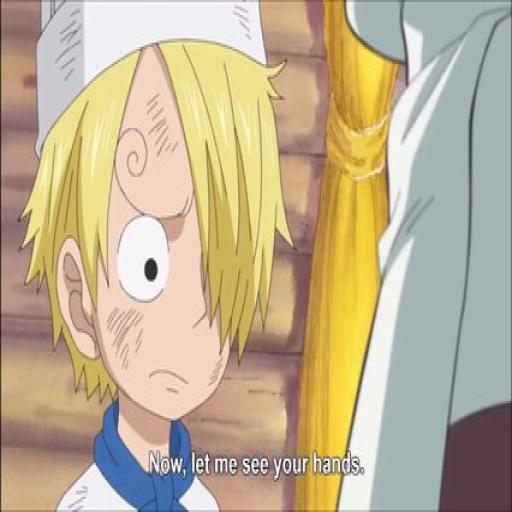sanji: (18, 0, 312, 434)
